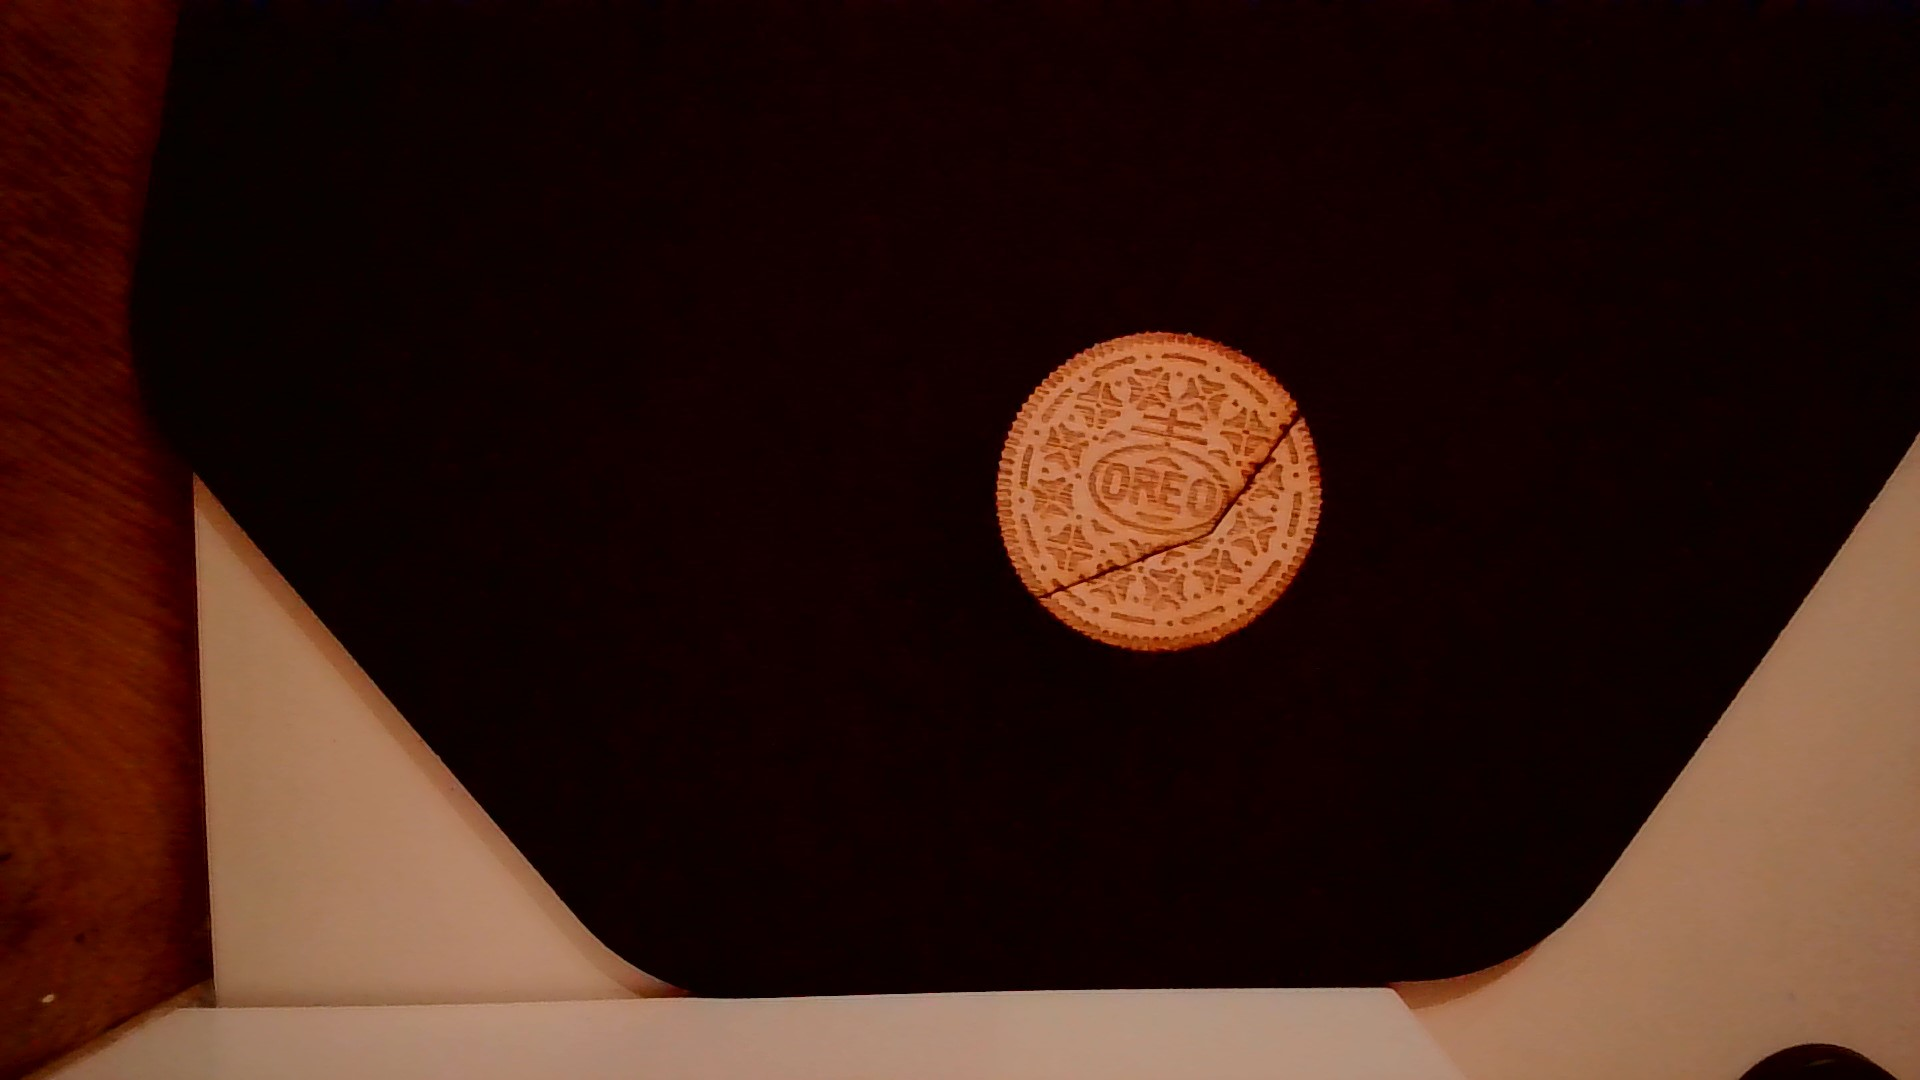Fissure: (1017, 397, 1316, 599)
Oréo: (982, 319, 1328, 657)
